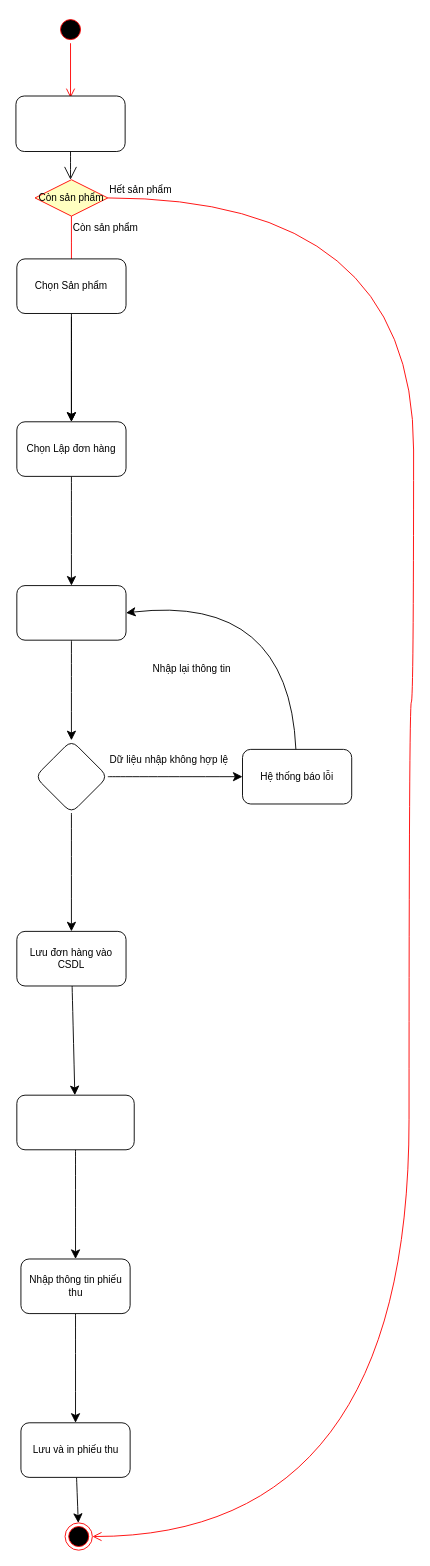
This 430x1566 diagram has some shape labels left out. The centre of each missing label's shape, as x and y in pixels:
"Lập phiếu thu" belongs at [75,1122].
"Nhập các thông tin mà đơn hàng cần có" belongs at [71,612].
"Tìm sản phẩm theo yêu cầu" belongs at [70,123].
